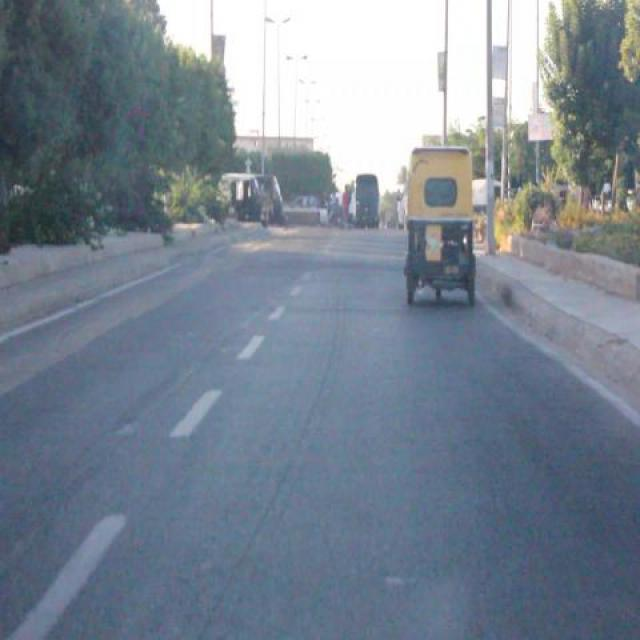Unmarked Bump: (223, 244, 406, 272)
